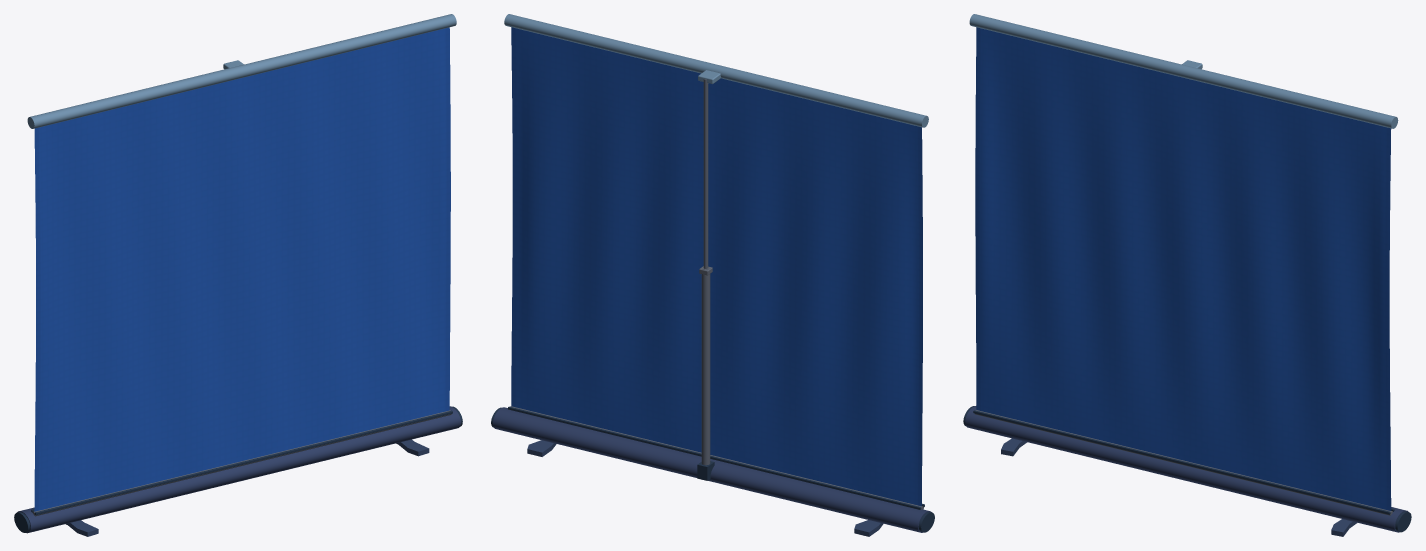
The picture shows the model from 3 angles, left to right: view 1: azimuth 30°, elevation 25°; view 2: azimuth 150°, elevation 25°; view 3: azimuth 330°, elevation 25°; orthographic projection.
Parts seen in each view (by area): view 1: fabric-sheet, roller-case, lift-rail, roller-mouth, roller-drum; view 2: fabric-sheet, roller-case, lift-rail, lift-mast, roller-mouth, roller-drum; view 3: fabric-sheet, roller-case, lift-rail, roller-mouth, roller-drum.
Part boxes in pixels (x1,y1,x2,y2): fabric-sheet: (34, 27, 450, 511); roller-case: (17, 406, 460, 533); lift-rail: (27, 14, 456, 128); roller-mouth: (31, 410, 452, 515); roller-drum: (32, 410, 451, 516); fabric-sheet: (511, 27, 922, 506); roller-case: (493, 407, 931, 532); lift-rail: (504, 14, 928, 127); lift-mast: (699, 79, 712, 465); roller-mouth: (508, 406, 924, 509); roller-drum: (510, 406, 923, 509); fabric-sheet: (975, 27, 1391, 510); roller-case: (965, 406, 1408, 532); lift-rail: (969, 14, 1398, 128); roller-mouth: (973, 410, 1394, 514); roller-drum: (975, 410, 1392, 515).
Bounding box in the file's own units: 2.08 × 1.91 × 0.286.
6 materials, 1 textured.
